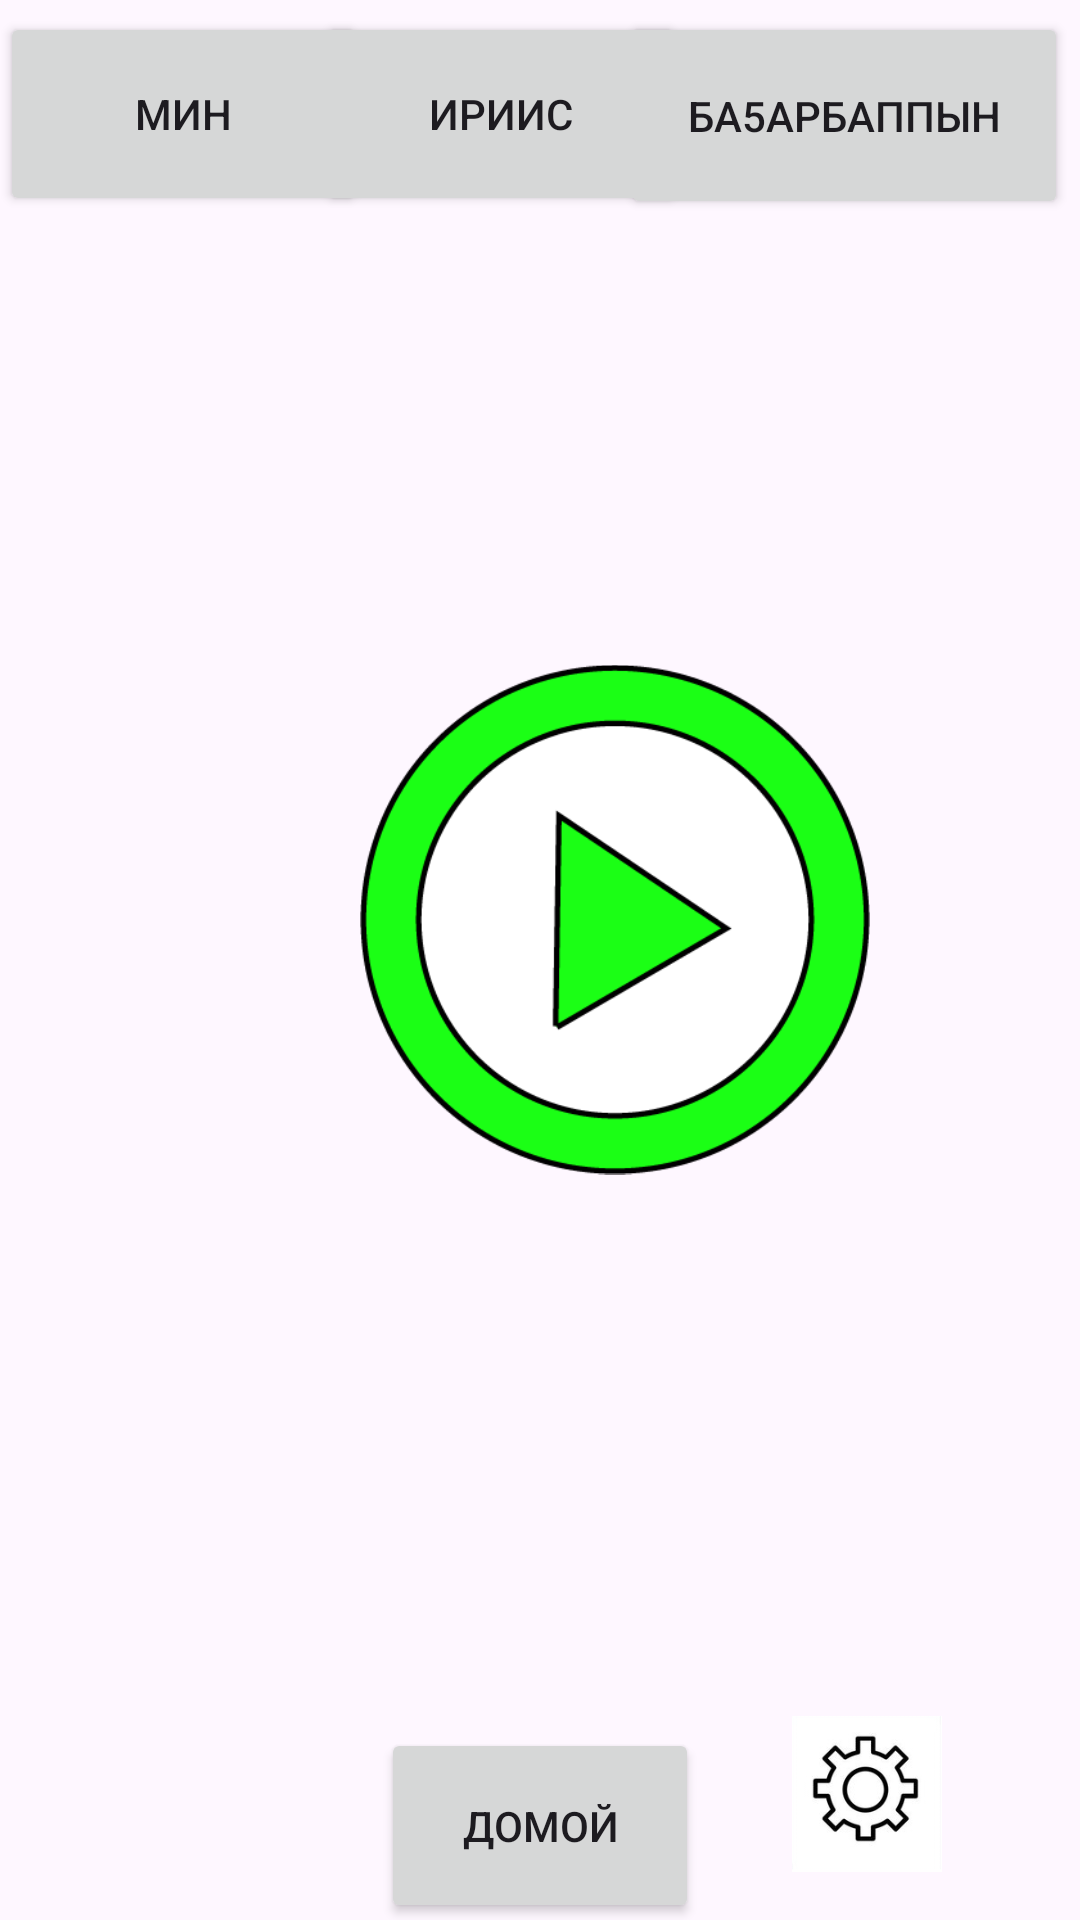

Where icons sit on this 1080 x 1920 app screen, as (x1, y1, x2, y2):
settings: (812, 1736, 919, 1842)
